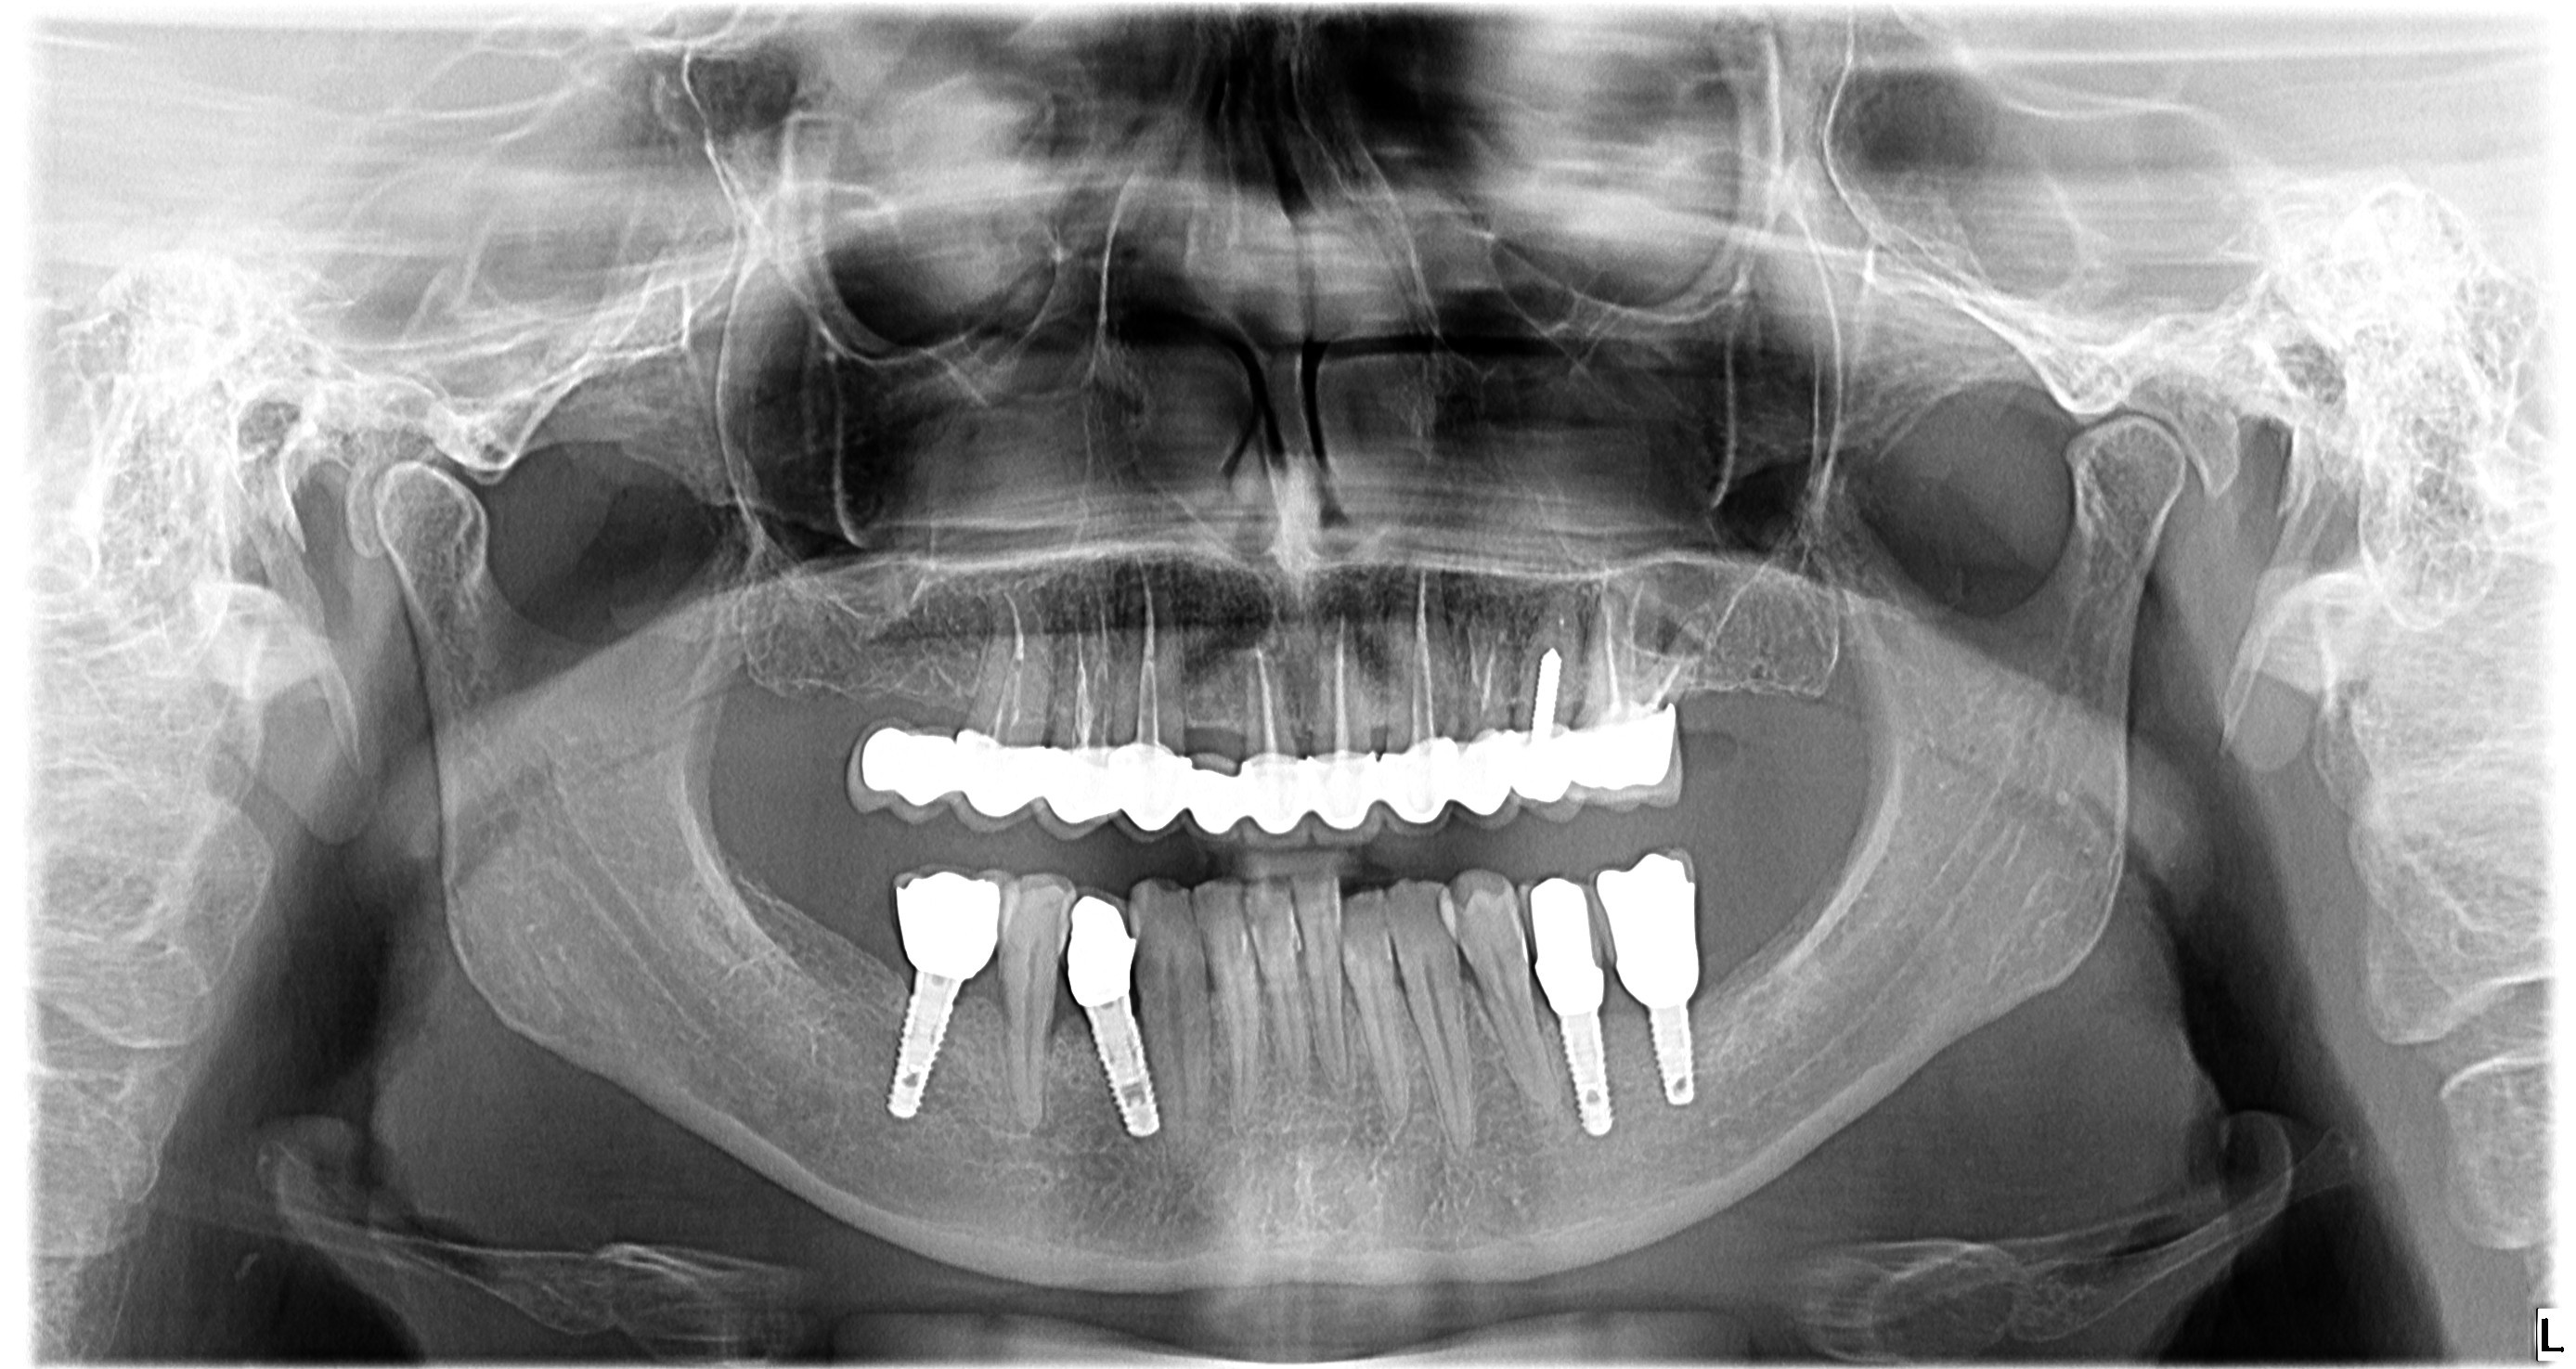BON: (1026, 982, 1075, 1057), (966, 962, 1012, 1042)
END: (1583, 589, 1714, 724), (1046, 576, 1116, 739), (969, 582, 1043, 736), (1114, 552, 1172, 741), (1392, 560, 1440, 749), (1314, 608, 1354, 756), (1242, 628, 1281, 759), (1465, 620, 1511, 729)
IMP: (838, 982, 981, 1129), (1063, 1003, 1177, 1153), (1540, 1008, 1639, 1153), (1630, 1000, 1716, 1117)
PRR: (823, 649, 1721, 856), (1581, 836, 1721, 1027), (1506, 870, 1629, 1030), (879, 865, 1022, 988), (1032, 882, 1160, 1017)
